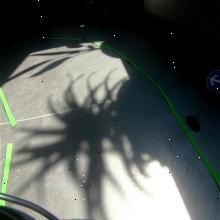left: (205, 68, 220, 91)
